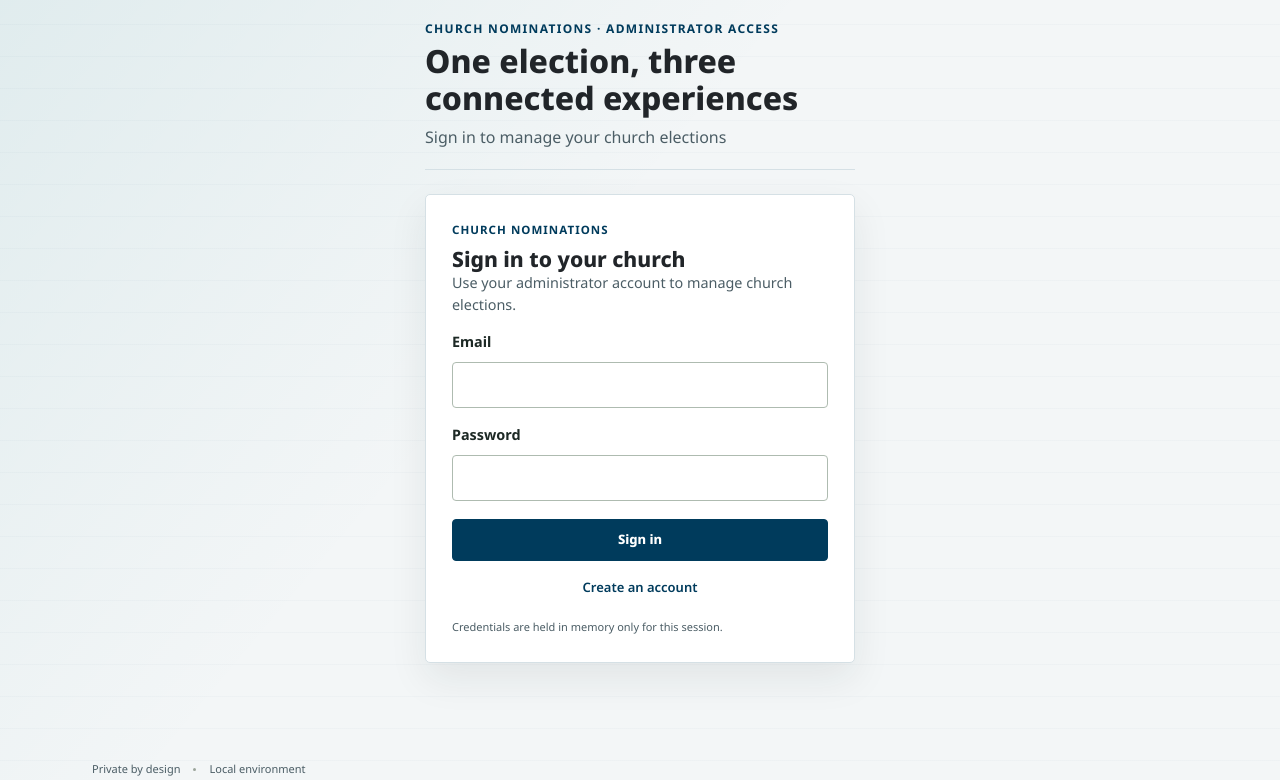
election administration › does not repeat the active voting state in a separate status badge
In the field labelled "Email": (640, 385) [452, 362, 828, 408], type "admin@example.com"
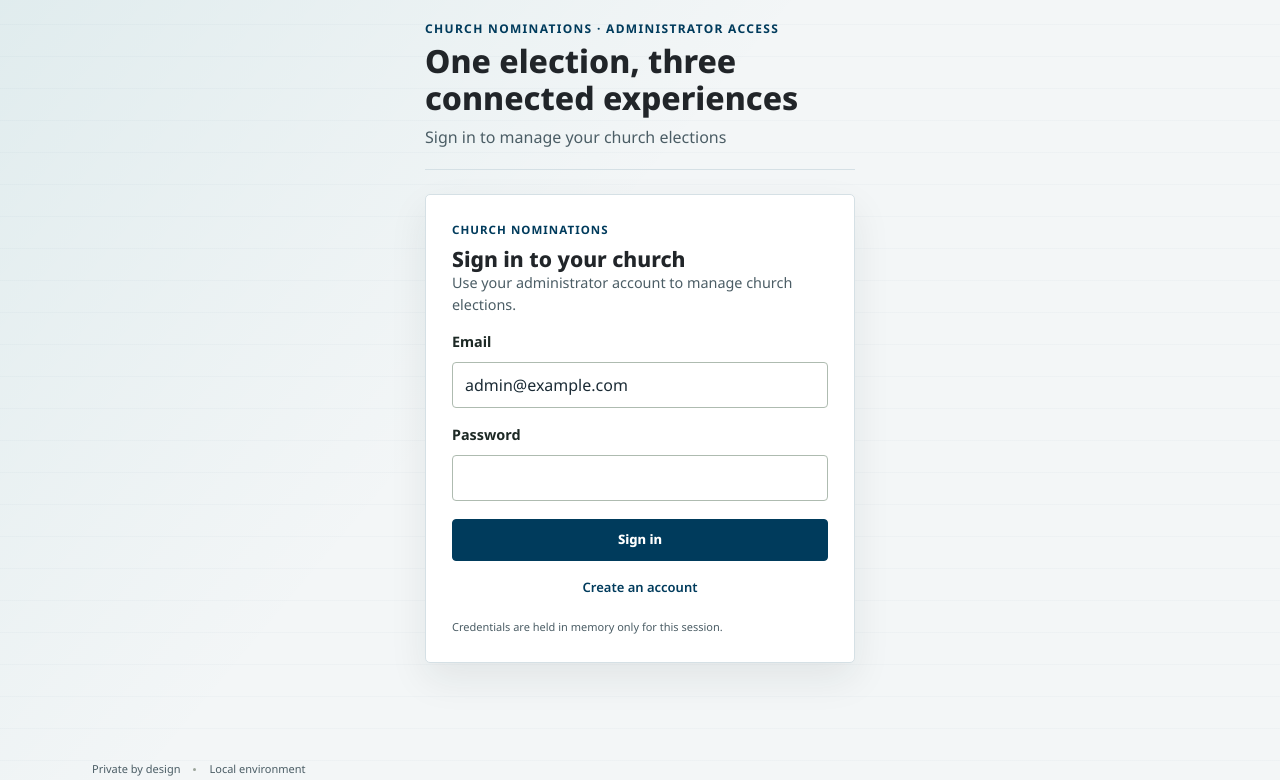
In the password field labelled "Password": (640, 478) [452, 455, 828, 501], type "secret"
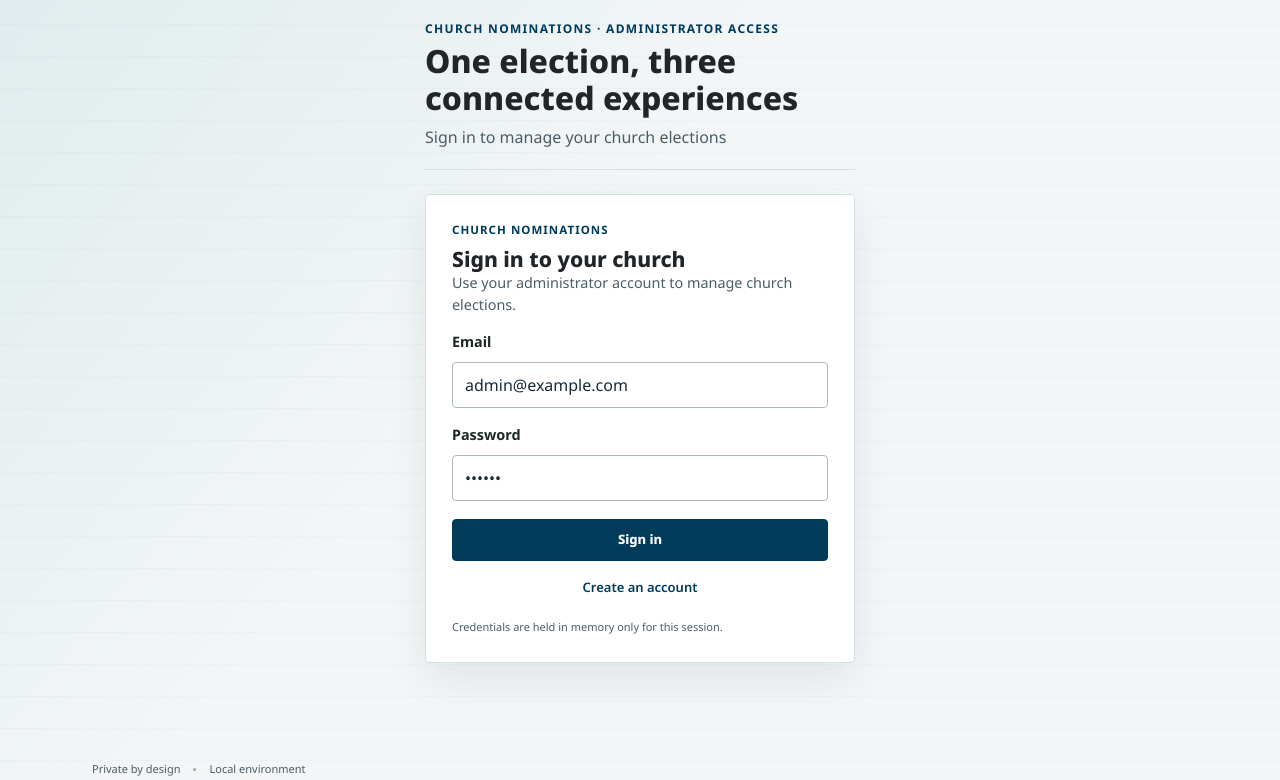
Click the button "Sign in": (640, 540) [452, 519, 828, 561]
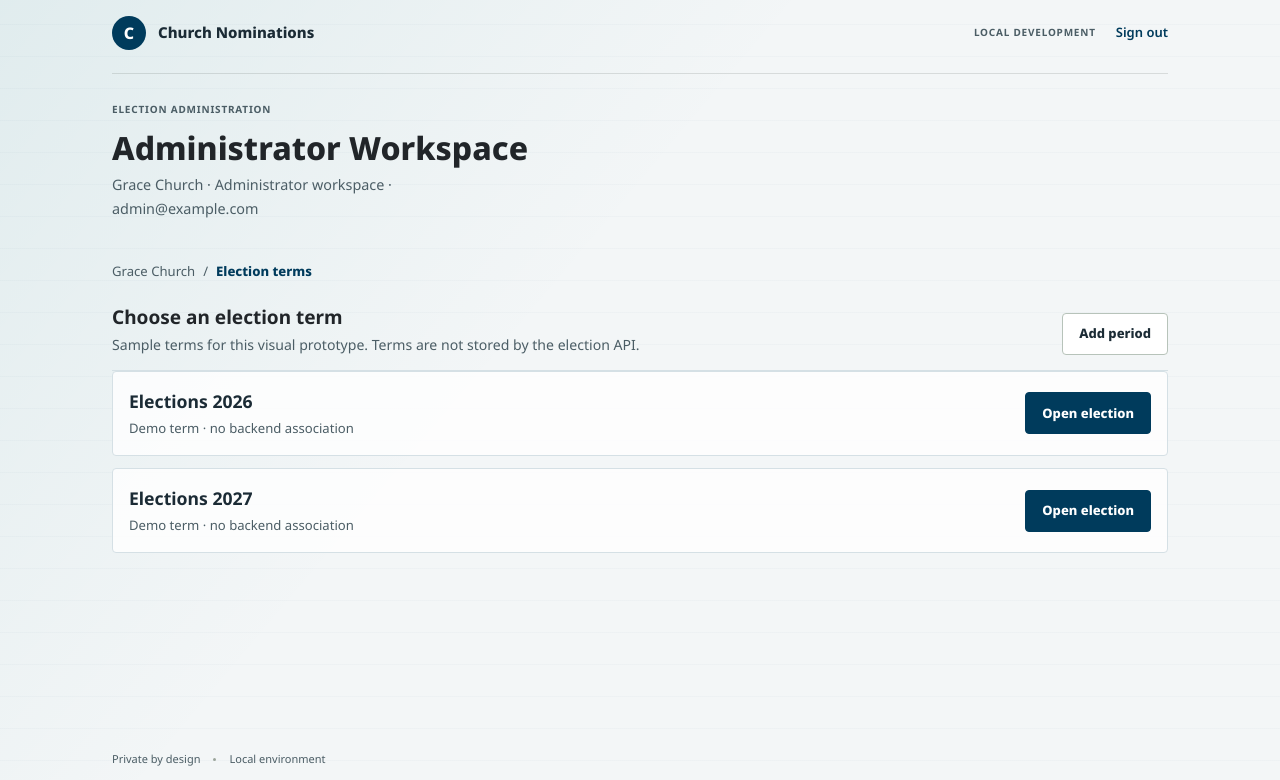
Click the button "Open election" in the row of "Elections 2026": (1088, 414) [1025, 392, 1151, 434]
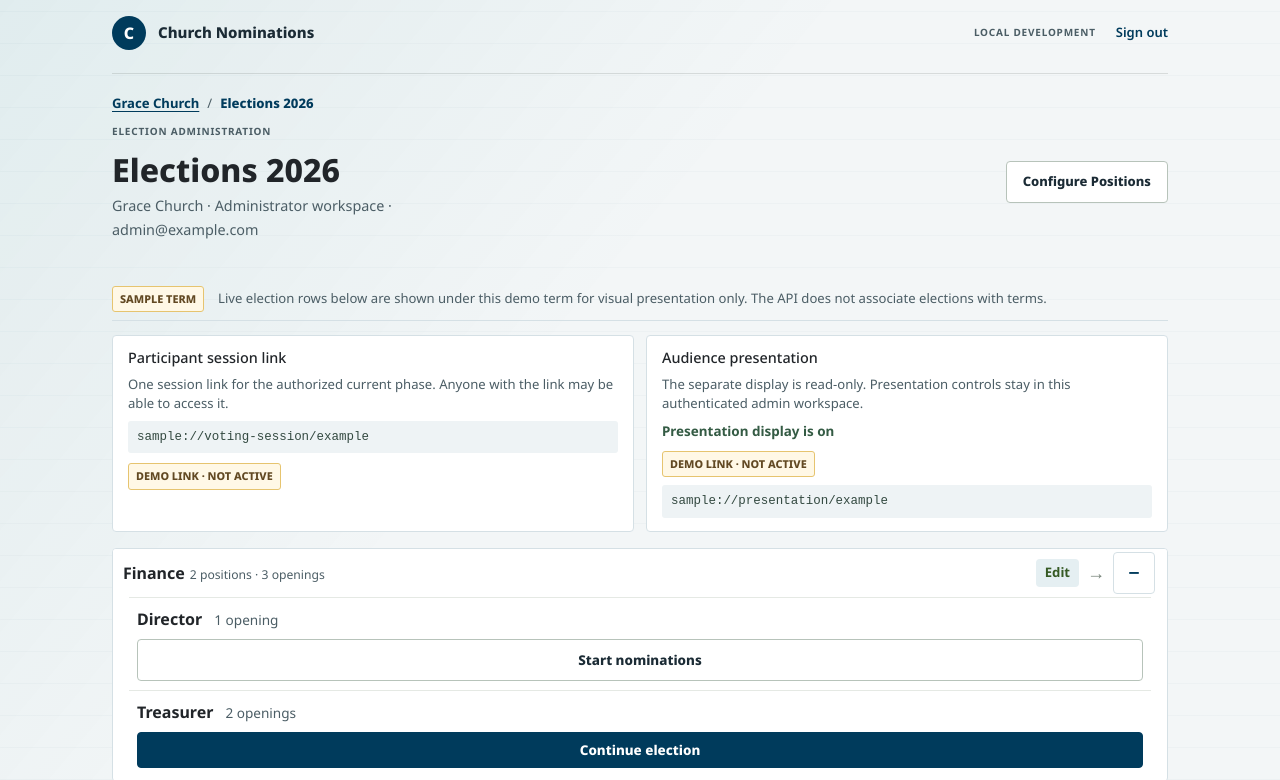
Click the button with aria-label "Start nominations: Director": (640, 660) [137, 639, 1143, 681]
(page scrolled)
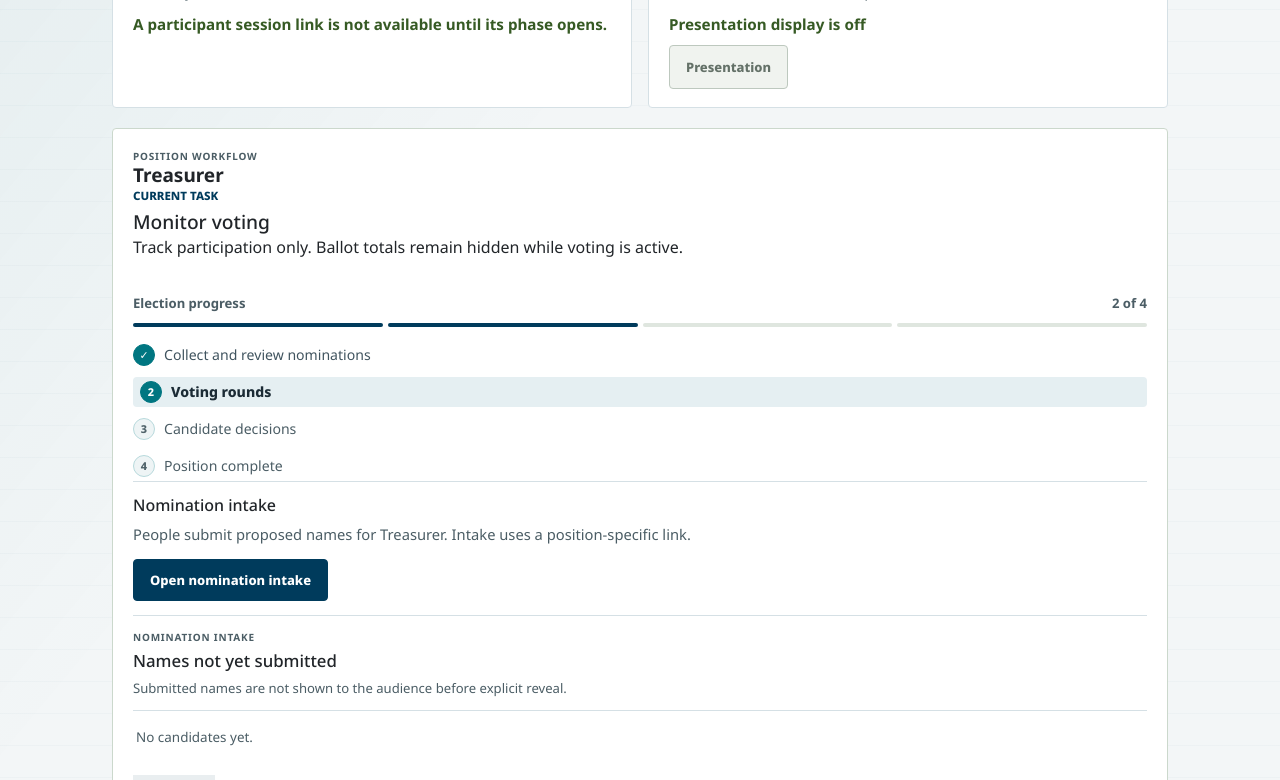
Result: the heading "Monitor voting" is shown at [133, 210, 270, 235]
Result: the list item "2 Voting rounds" is shown at [133, 377, 1147, 407]
